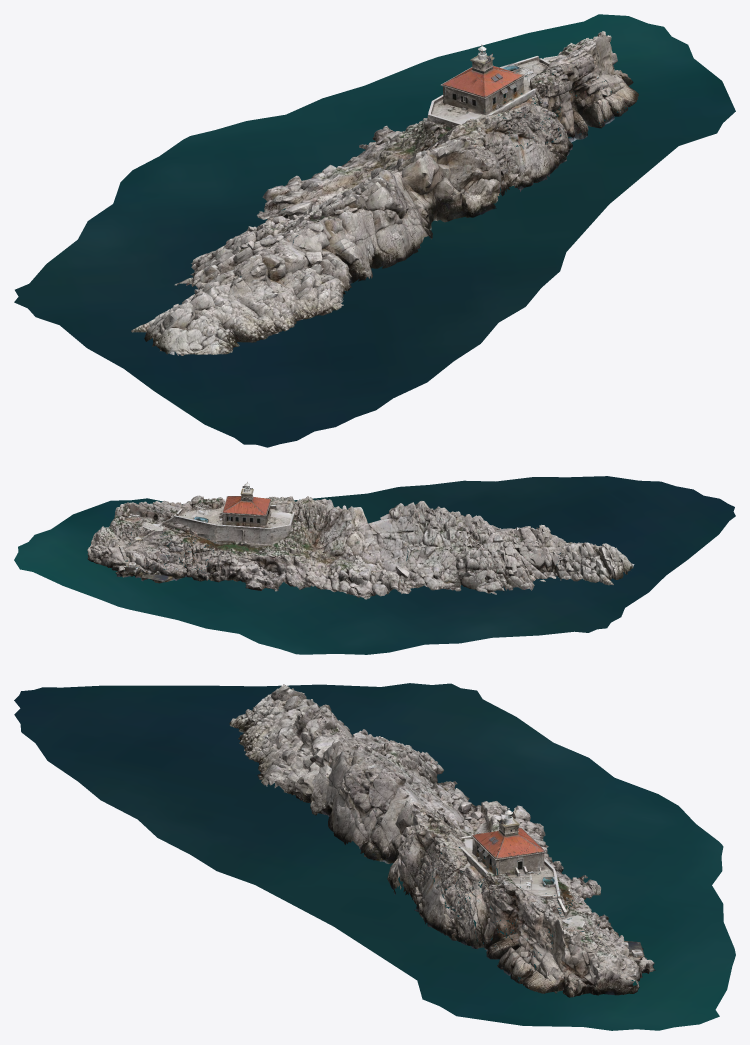
File: grebeni.glb
3 views of the same model, one above another, from view 1: azimuth 30°, elevation 25°; view 2: azimuth 150°, elevation 25°; view 3: azimuth 270°, elevation 25° (orthographic). The views are drawn at different scales.
Visible parts, largest first — view 1: Merged mesh; view 2: Merged mesh; view 3: Merged mesh.
Boxes of the visible parts, bbox=[...] form: Merged mesh: bbox=[14, 14, 735, 447]; Merged mesh: bbox=[14, 476, 735, 654]; Merged mesh: bbox=[14, 683, 735, 1030].
Bounding box in the file's own units: 2.02 × 0.3262 × 1.71.
2 materials, 2 textured.
